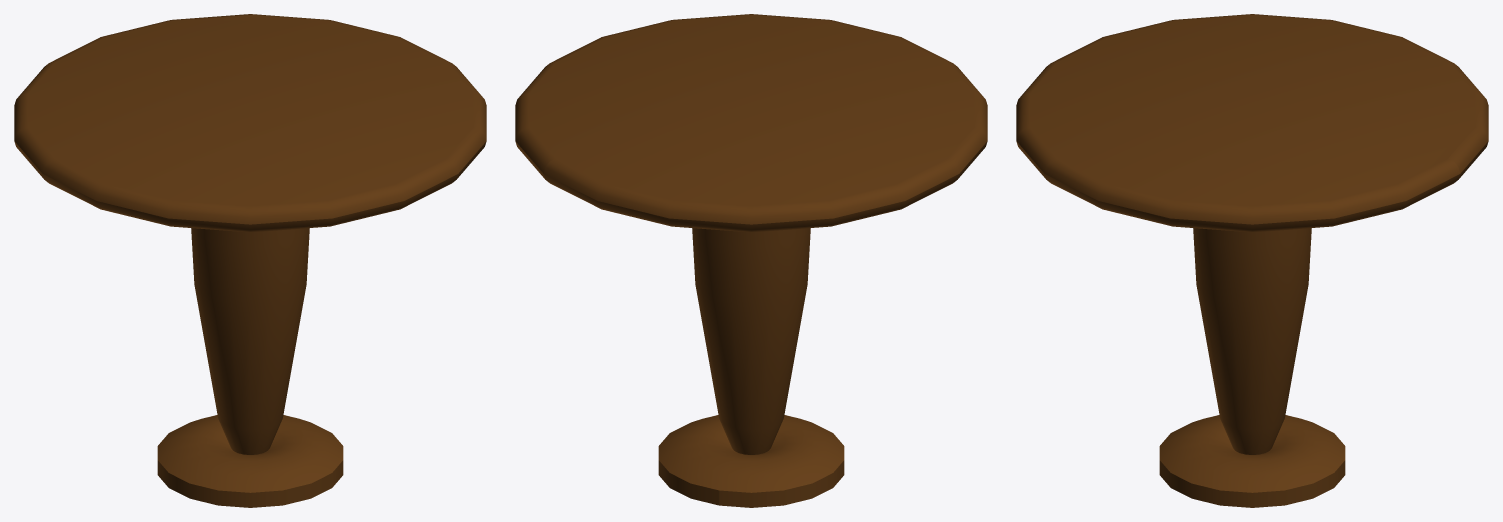
File: Table.gltf
The picture shows the model from 3 angles, left to right: view 1: azimuth 30°, elevation 25°; view 2: azimuth 150°, elevation 25°; view 3: azimuth 270°, elevation 25°; orthographic projection.
Visible parts, largest first — view 1: Table; view 2: Table; view 3: Table.
Part boxes in pixels (x1=…): Table: x1=14, y1=14, x2=486, y2=507; Table: x1=515, y1=14, x2=987, y2=507; Table: x1=1016, y1=14, x2=1488, y2=507.
Size of the model in its own units: 23.28 by 19.14 by 22.93.
1 material, 1 textured.
